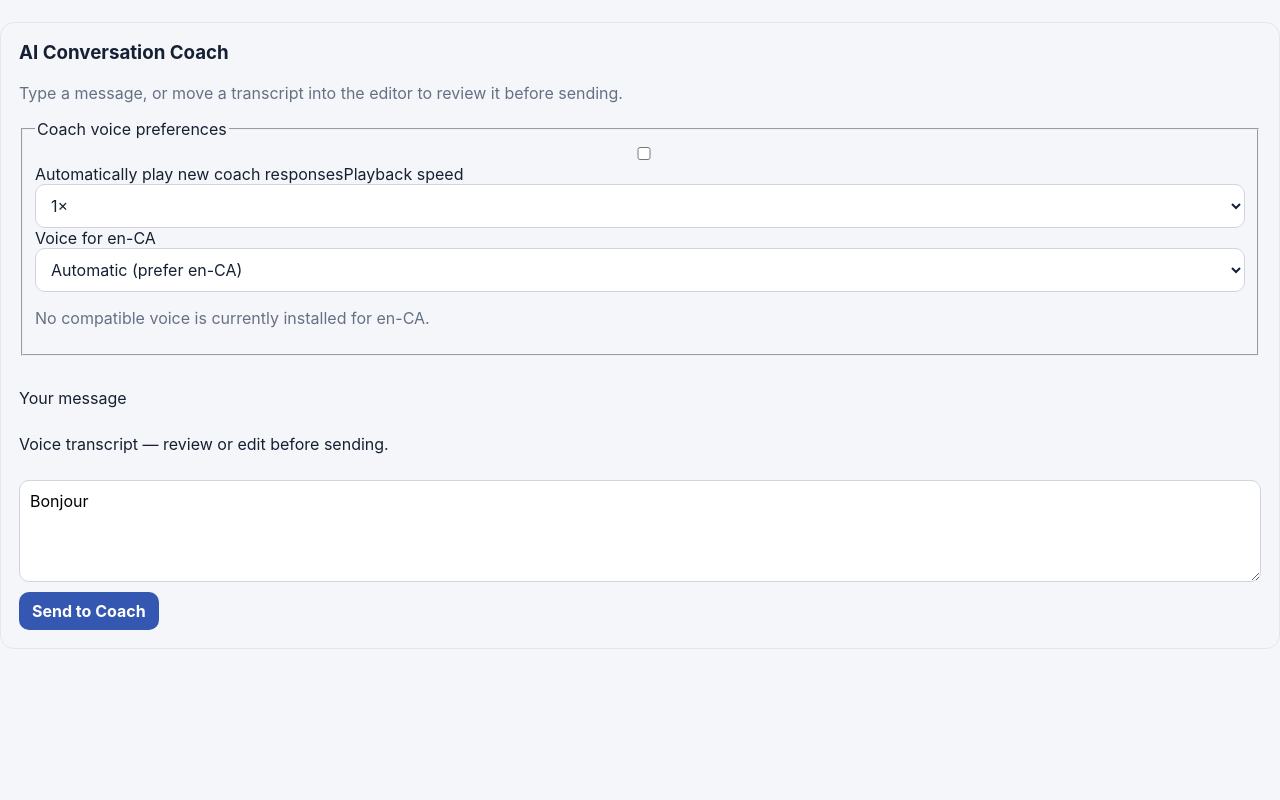
Test: ConversationPanel › keeps the submit button disabled during a pending voice request
The image size is (1280, 800).
Click the button "Send to Coach" at (89, 611), box [19,592,159,630]
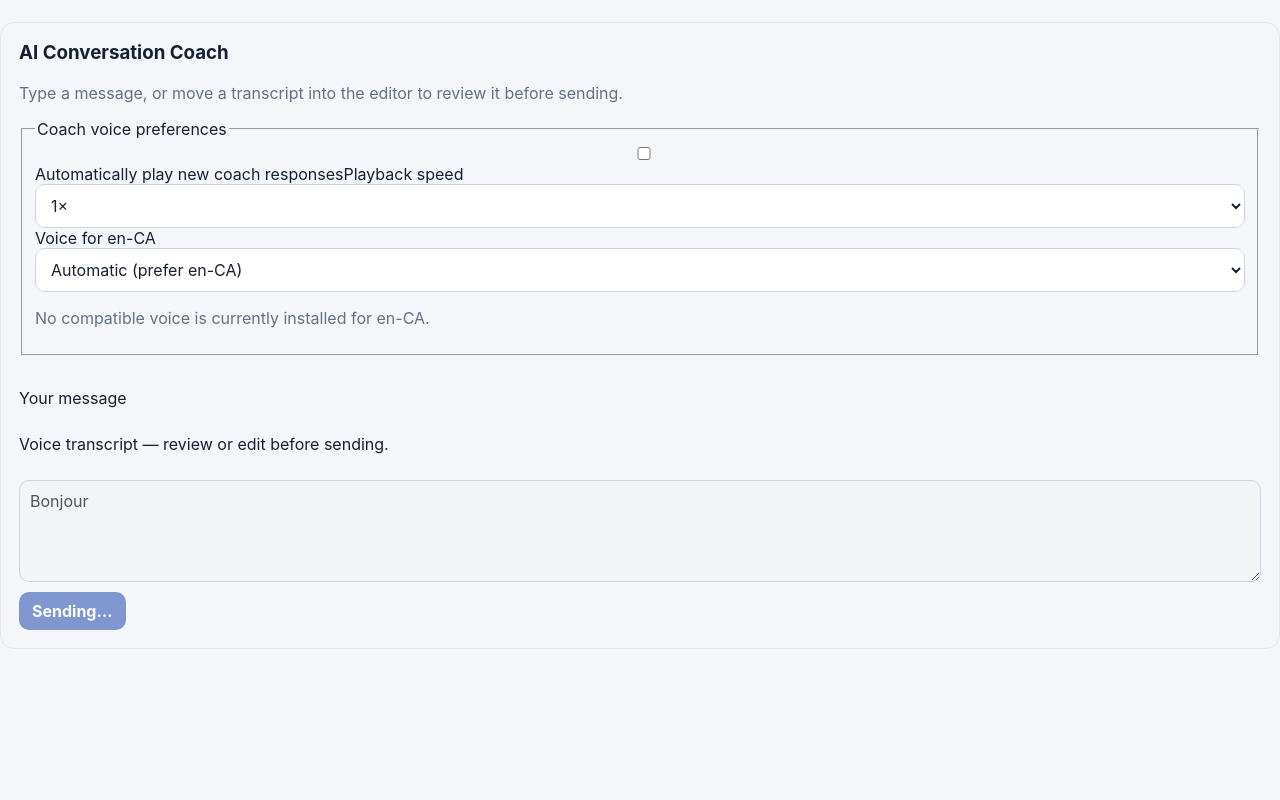
Expected: the button "Sending…" is disabled, [19,592,126,630]
